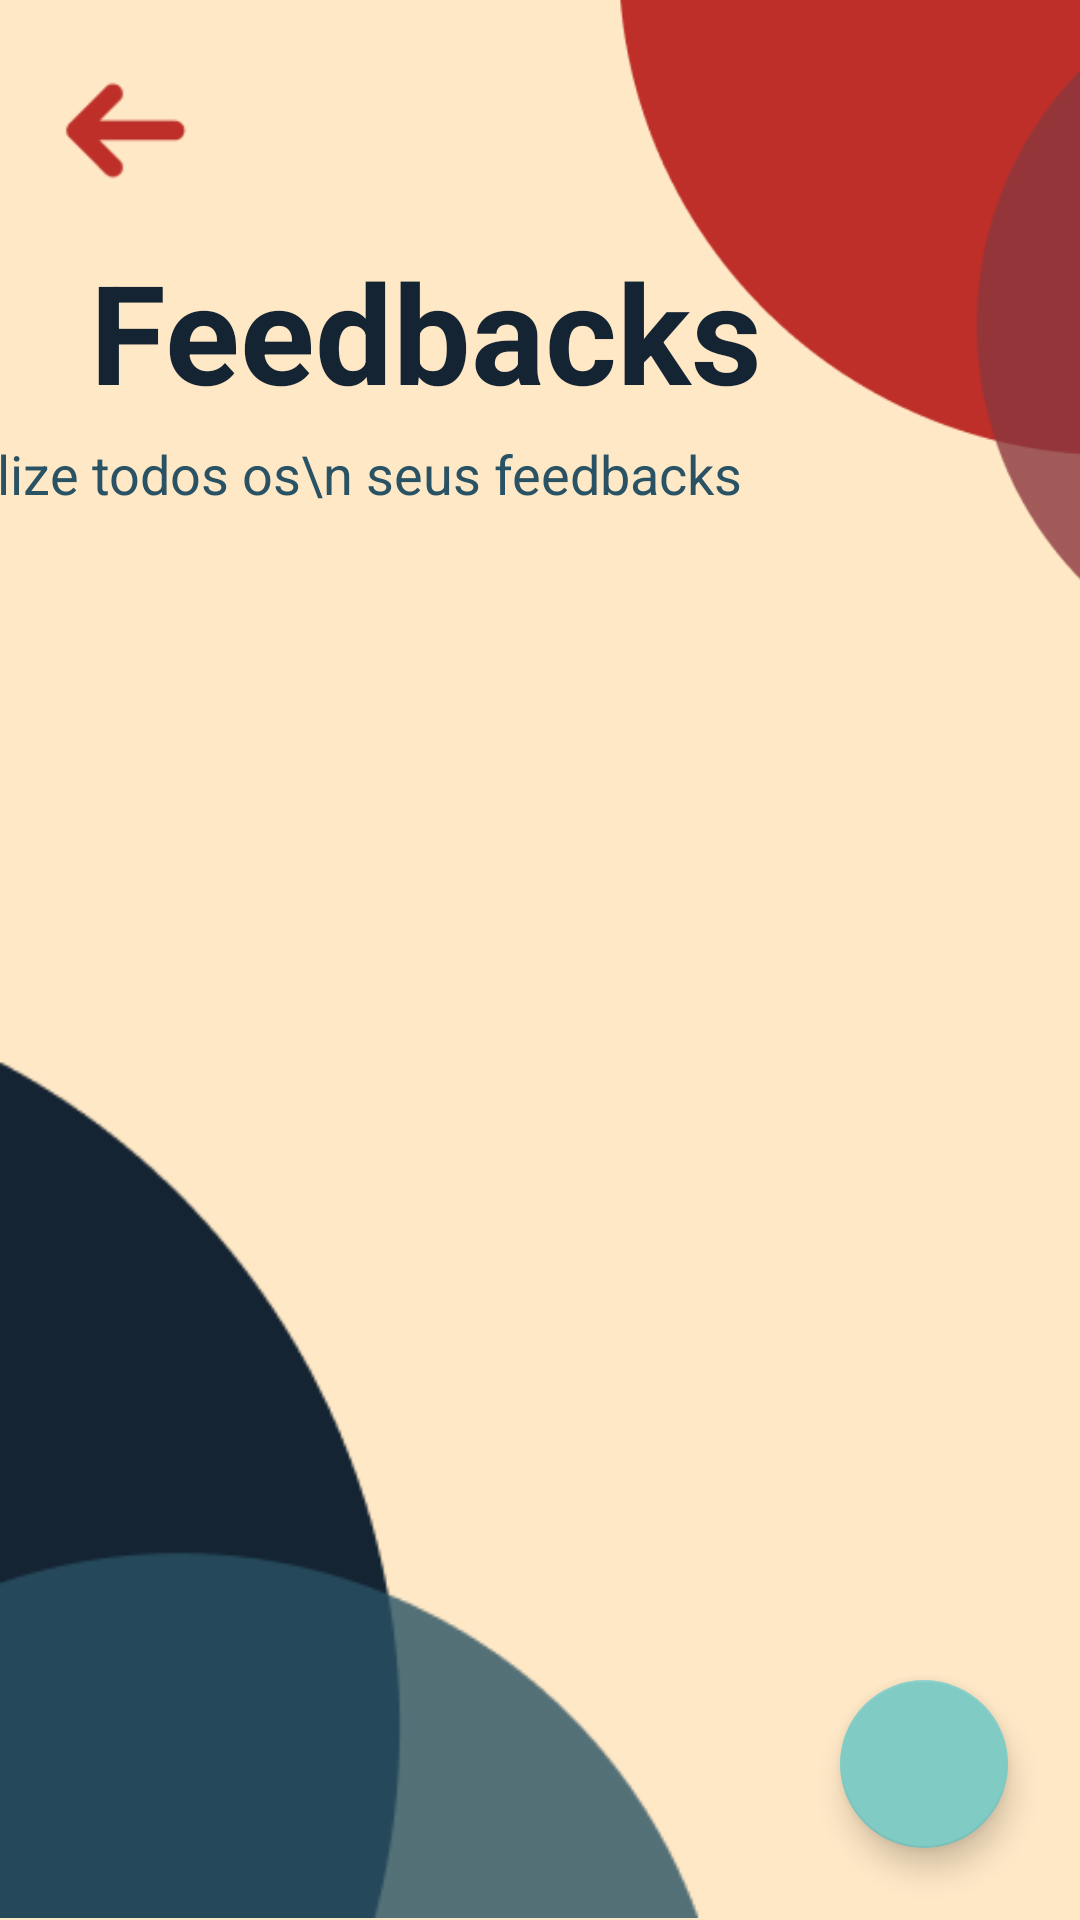

Named icons in this screenshot (1080px x 1920px) and their centers, (x,y):
arrow: (126,130)
